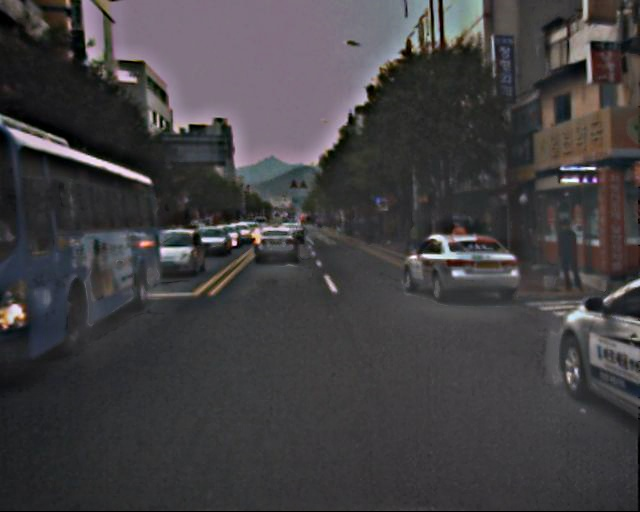person: (549, 220, 579, 294)
